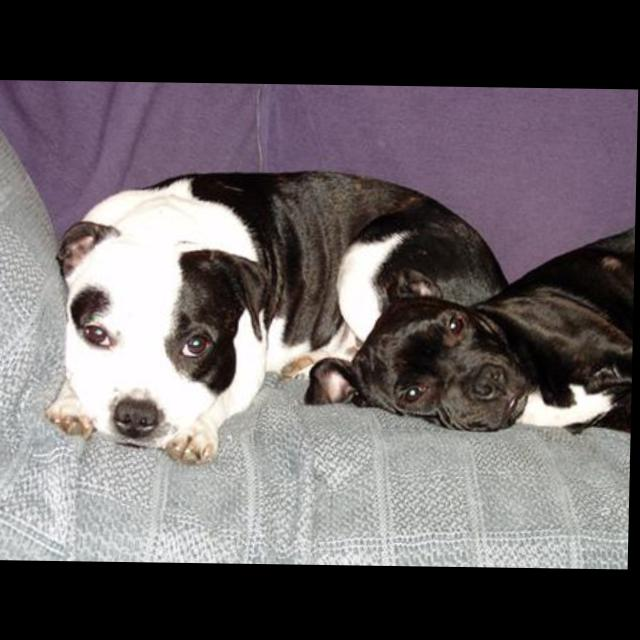staffford: (45, 166, 514, 469), (305, 210, 637, 455)
